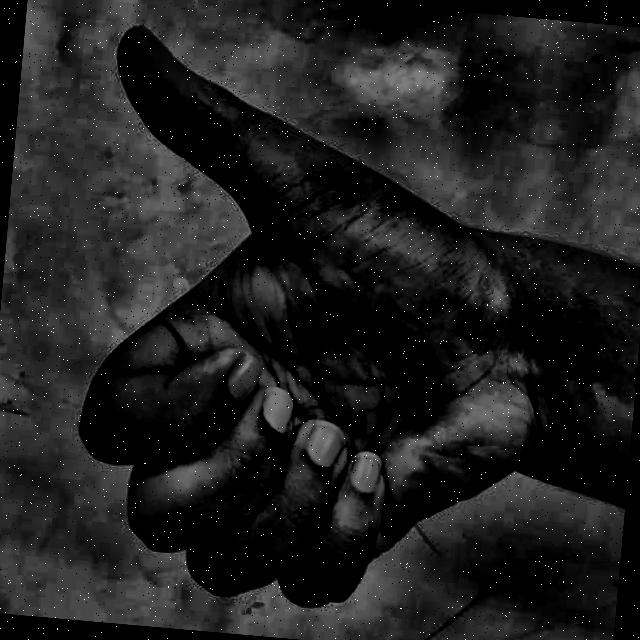Do: (17, 3, 578, 640)
